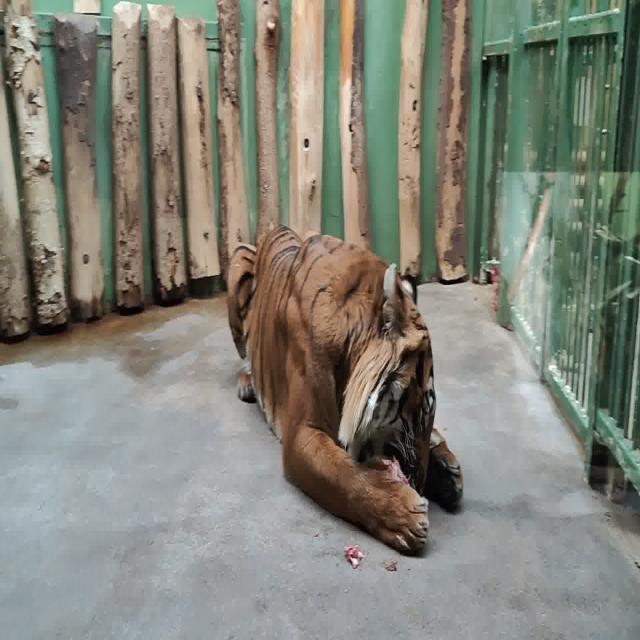tiger: (226, 222, 463, 557)
